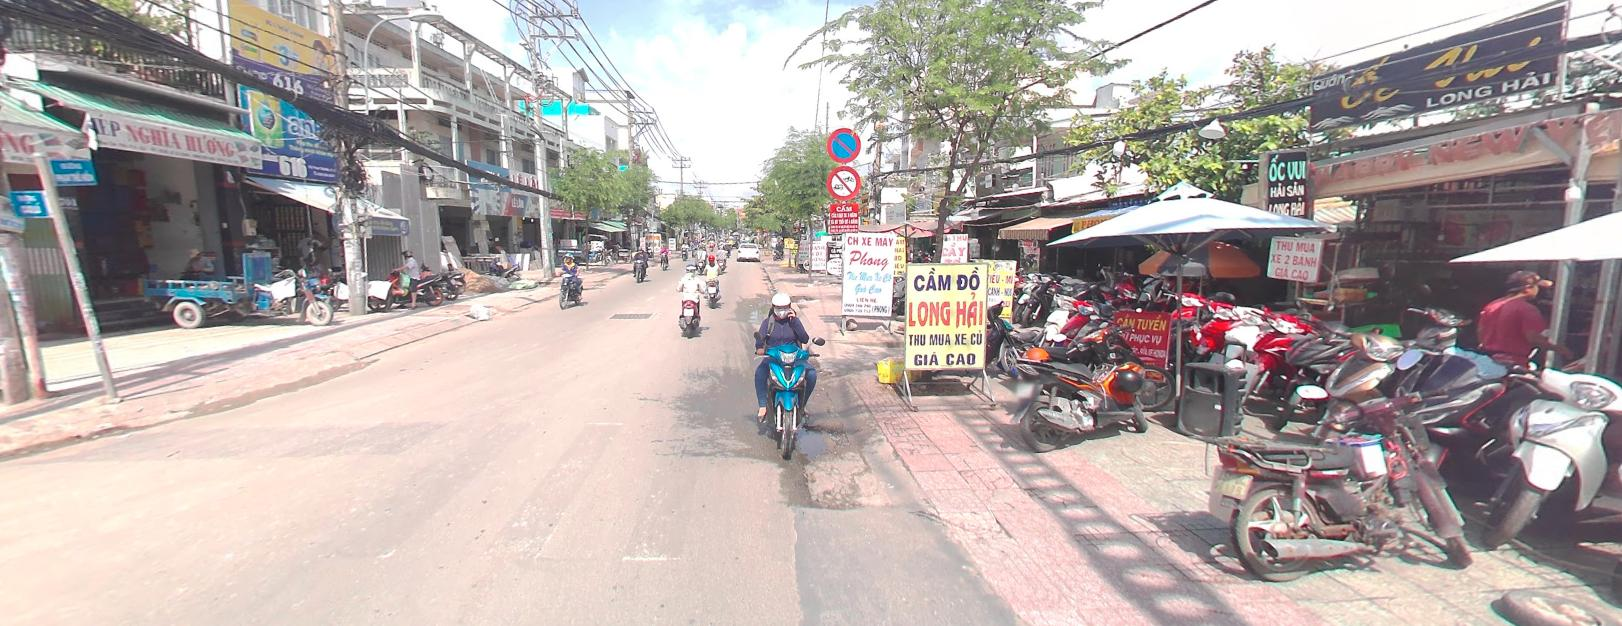Cam con lai: (827, 163, 861, 197)
Cam dung va do: (827, 126, 861, 160)
